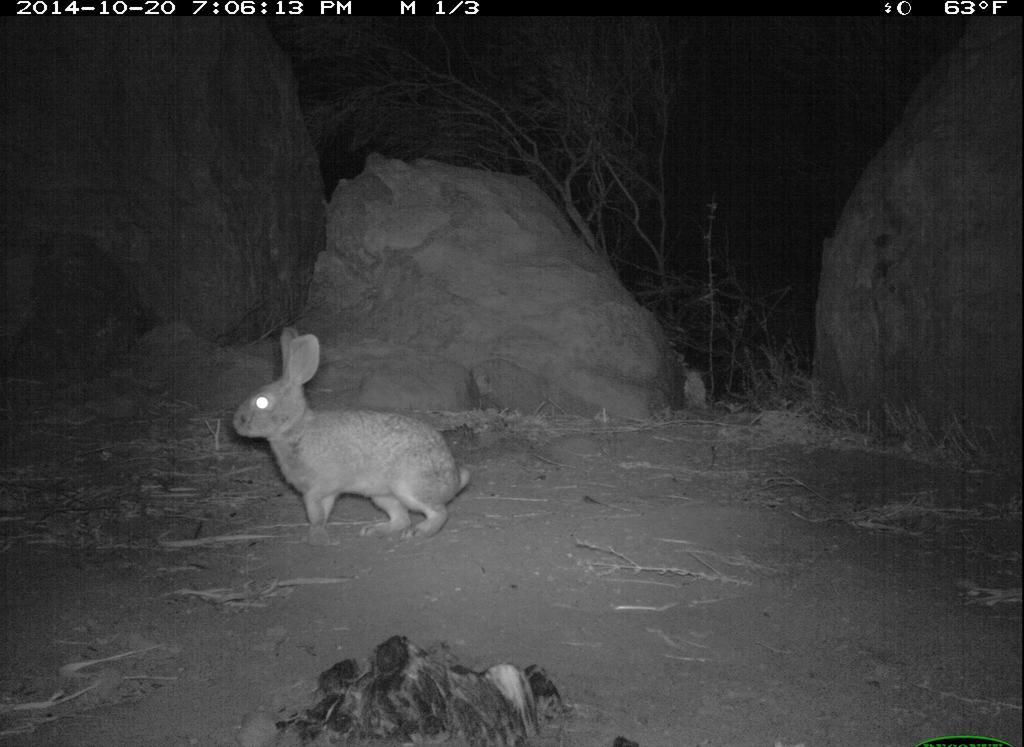rabbit: (212, 318, 491, 551)
